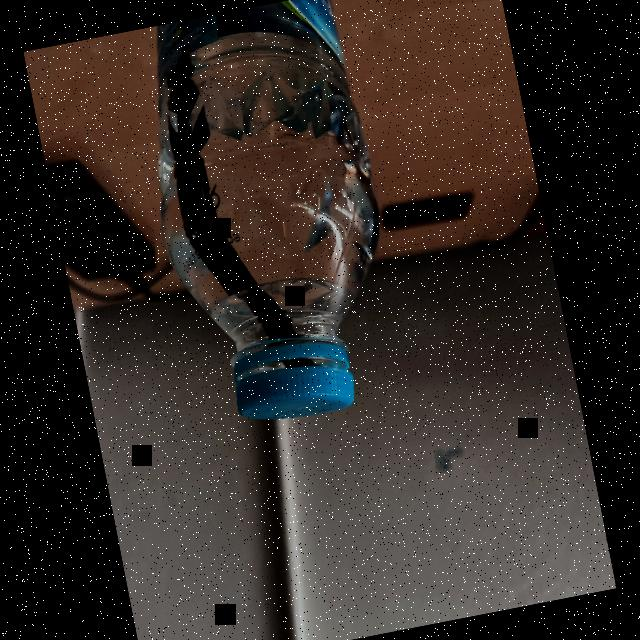plastic_bottle_cap: (228, 353, 359, 438)
